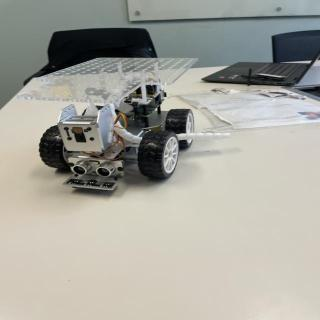vehicle: (23, 57, 205, 199)
